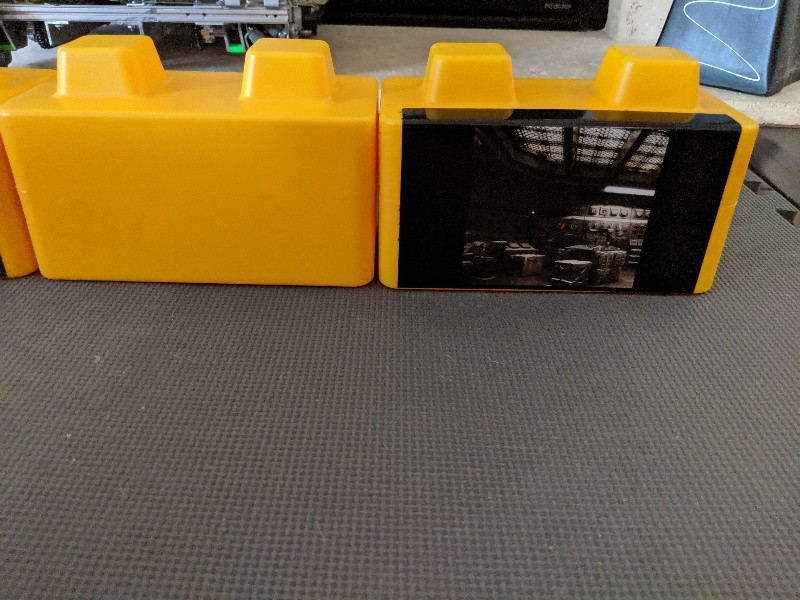Skystone: (389, 97, 746, 299)
